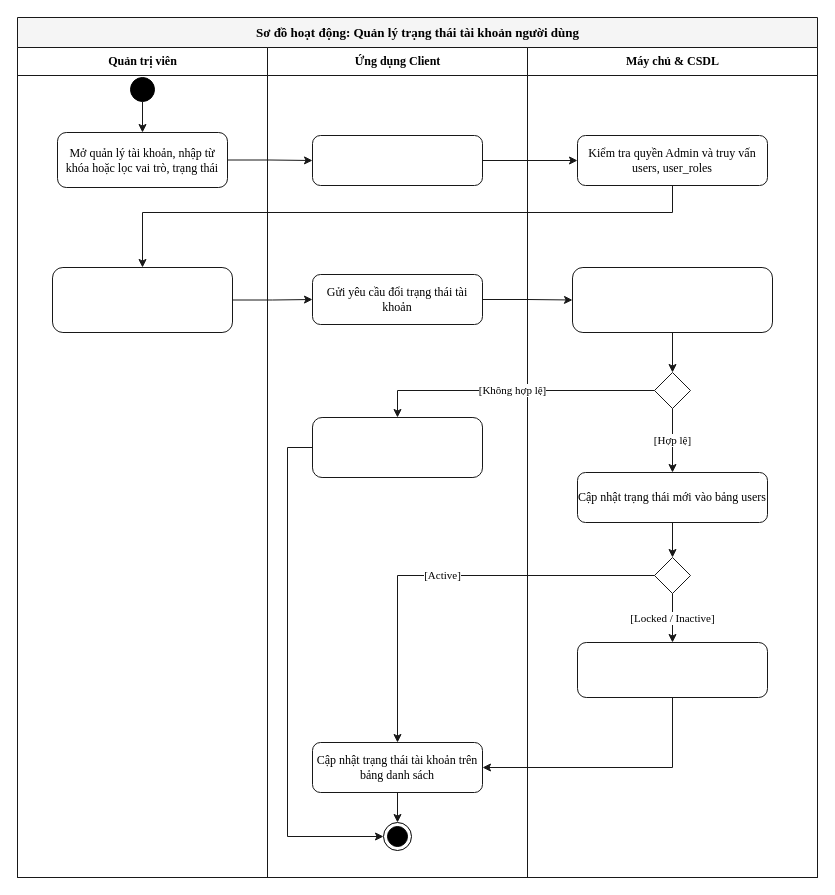
Some shapes in this 835 by 895 pixel diagram are drawn without their labels. Each missing label, with the centre of its shape:
Chọn khóa, khôi phục hoặc vô hiệu hóa; nhập lý do (5-1.000 ký tự) nếu khóa: (x=142, y=299)
Gửi yêu cầu truy vấn và hiển thị bảng tài khoản: (x=397, y=160)
Hiển thị thông báo lỗi (trạng thái trùng hoặc Admin cuối cùng): (x=397, y=447)
Kiểm tra quyền, từ chối trạng thái không đổi và bảo vệ Admin cuối cùng: (x=672, y=299)
Thu hồi toàn bộ refresh_tokens chưa thu hồi trong giao dịch: (x=672, y=670)
